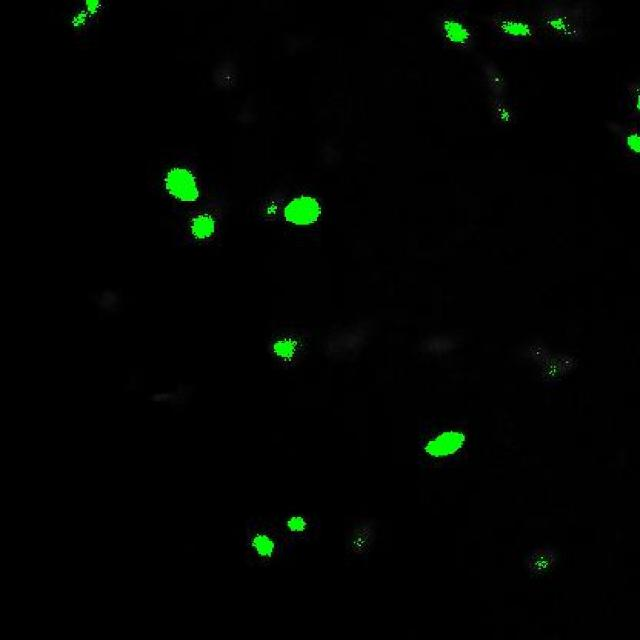Cell: (166, 168, 197, 200), (428, 433, 463, 458), (287, 200, 320, 224), (448, 20, 468, 46), (190, 218, 213, 239), (255, 532, 272, 560), (274, 340, 293, 356)
